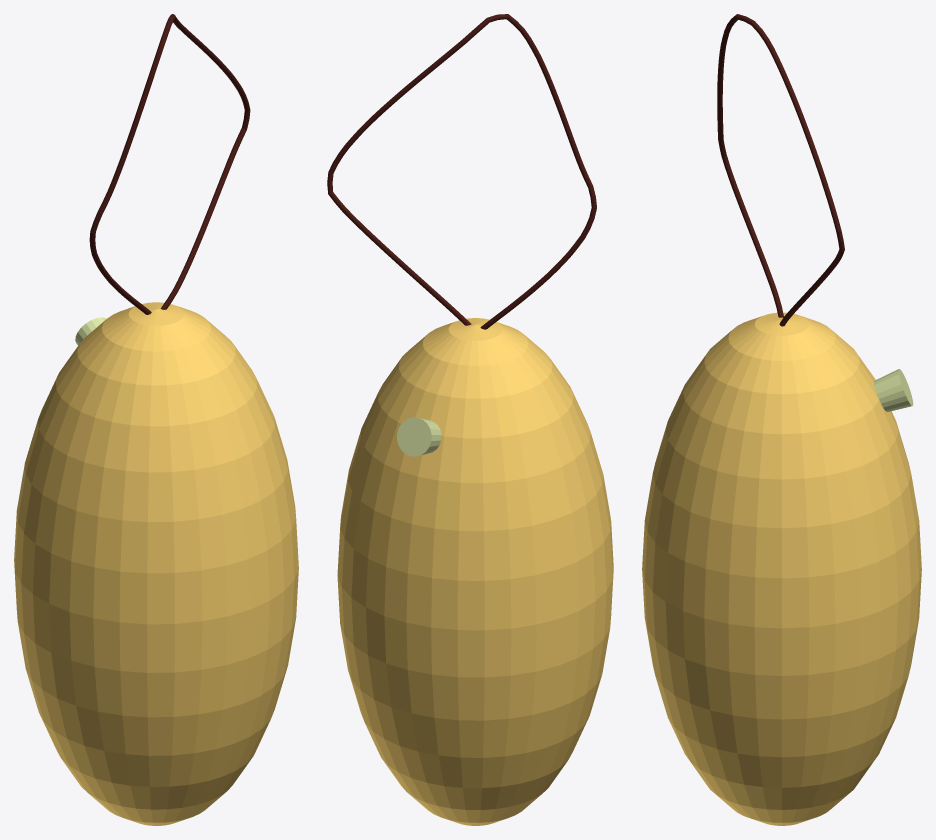
Rendered from wempenk.glb.
3 renders of one model, left to right at view 1: azimuth 30°, elevation 25°; view 2: azimuth 150°, elevation 25°; view 3: azimuth 270°, elevation 25°, orthographic. The views are drawn at different scales.
Parts seen in each view (by area): view 1: Sphere, Cylinder; view 2: Sphere, Cylinder, Cylinder.001; view 3: Sphere, Cylinder, Cylinder.001.
Boxes of the visible parts, x1,y1,x2,y2 form: Sphere: [14, 302, 298, 825]; Cylinder: [89, 14, 250, 314]; Sphere: [337, 318, 613, 825]; Cylinder: [327, 14, 596, 329]; Cylinder.001: [397, 417, 441, 456]; Sphere: [642, 312, 921, 825]; Cylinder: [717, 14, 844, 326]; Cylinder.001: [874, 369, 913, 411].
Bounding box in the file's own units: 2 × 6.31 × 2.
3 materials, 1 textured.
